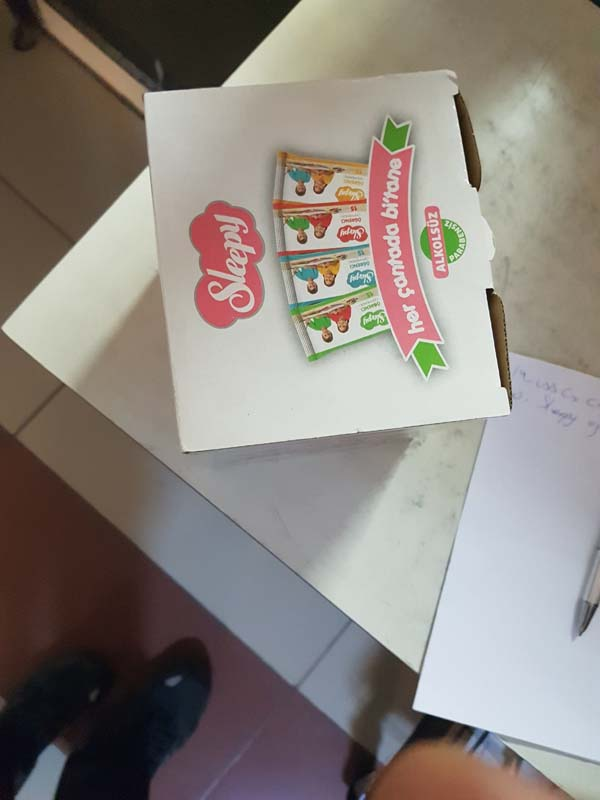sleepyogrencikoli: (132, 64, 523, 461)
